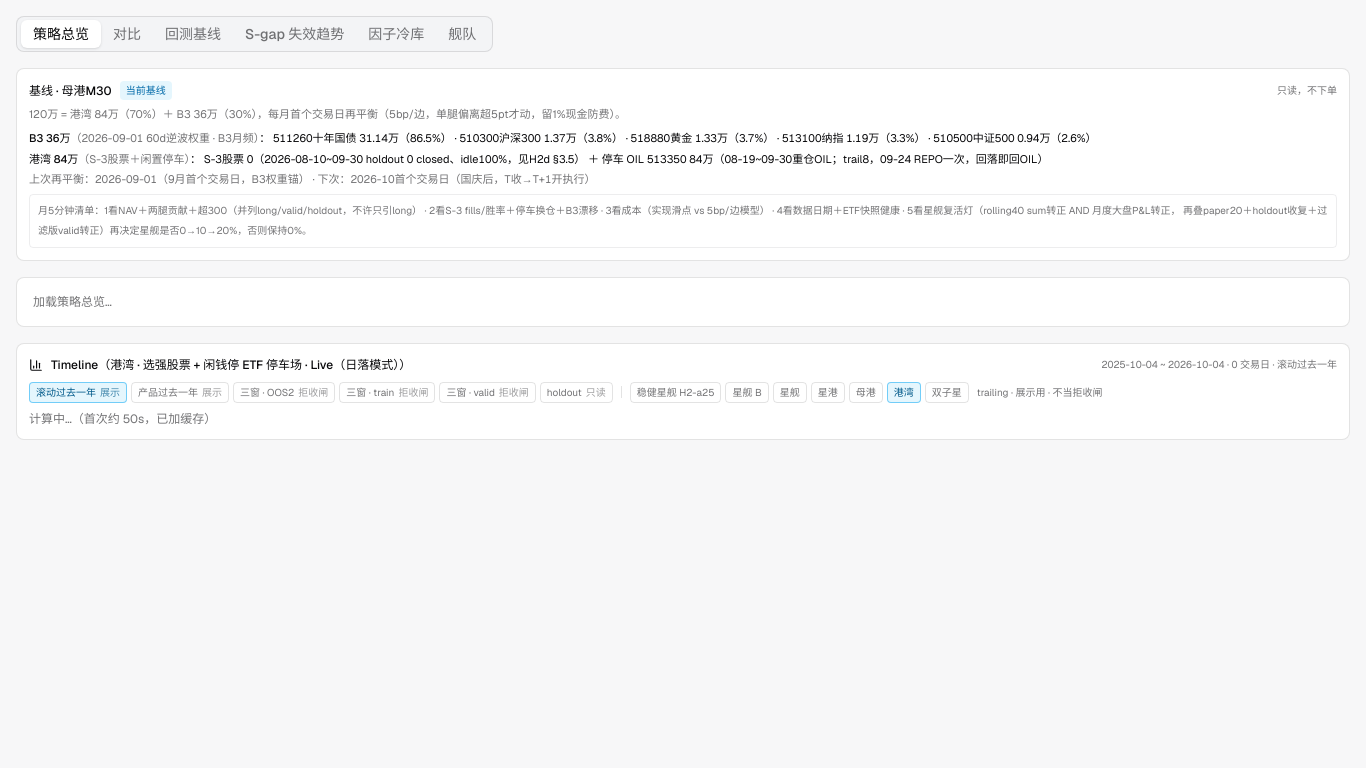
Test: BacktestPage › switches the timeline strategy label to 母港
Click the button "对比": (127, 34) [101,20,153,48]
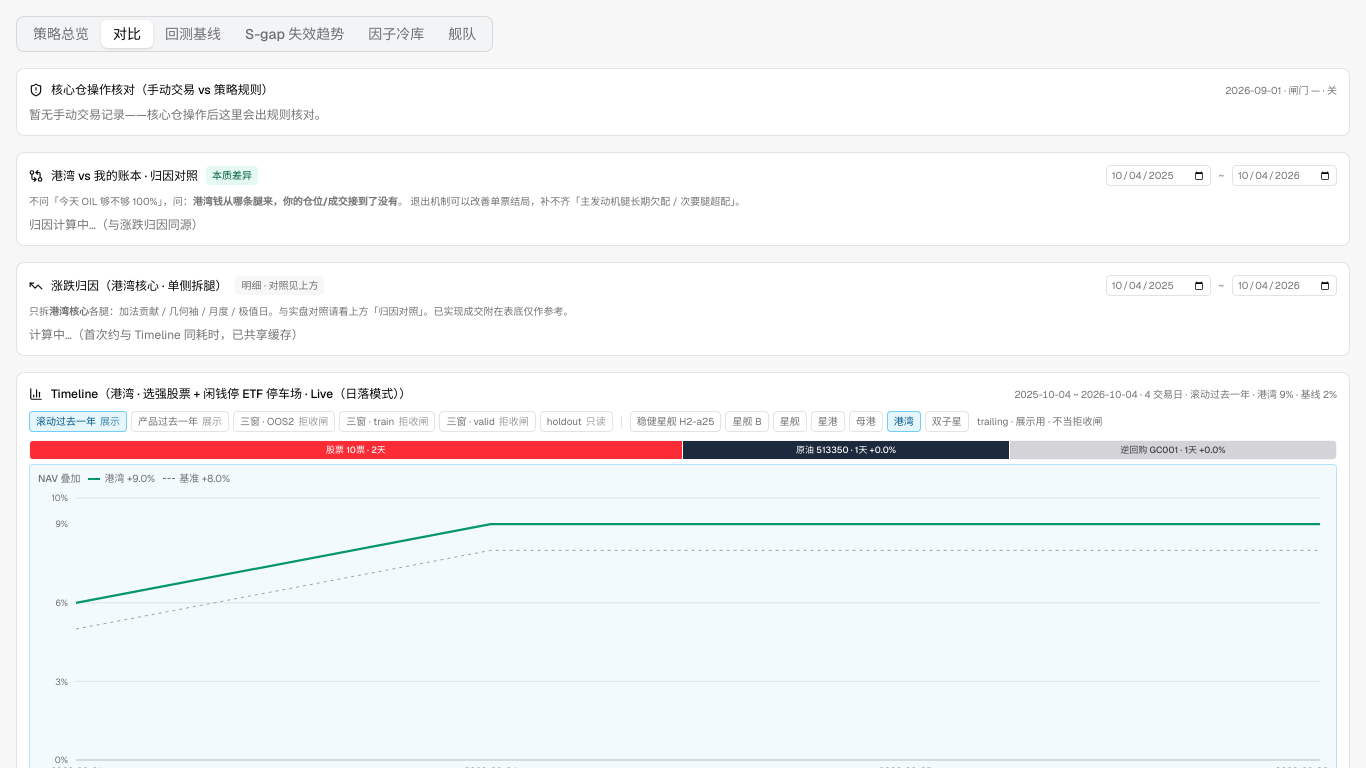
Click the button "母港": (866, 422) [849,411,883,432]
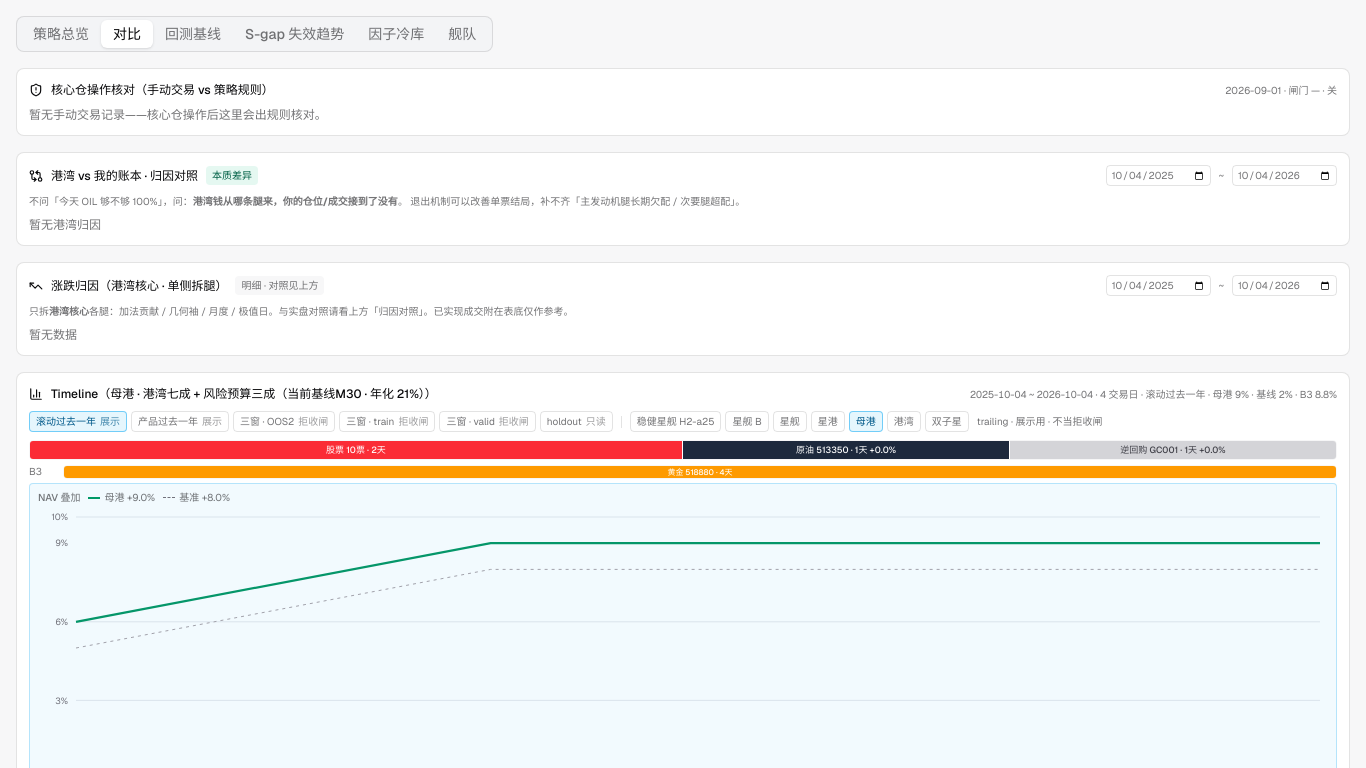
Expected: the text "Timeline（母港" is shown, [29,385,1337,403]
